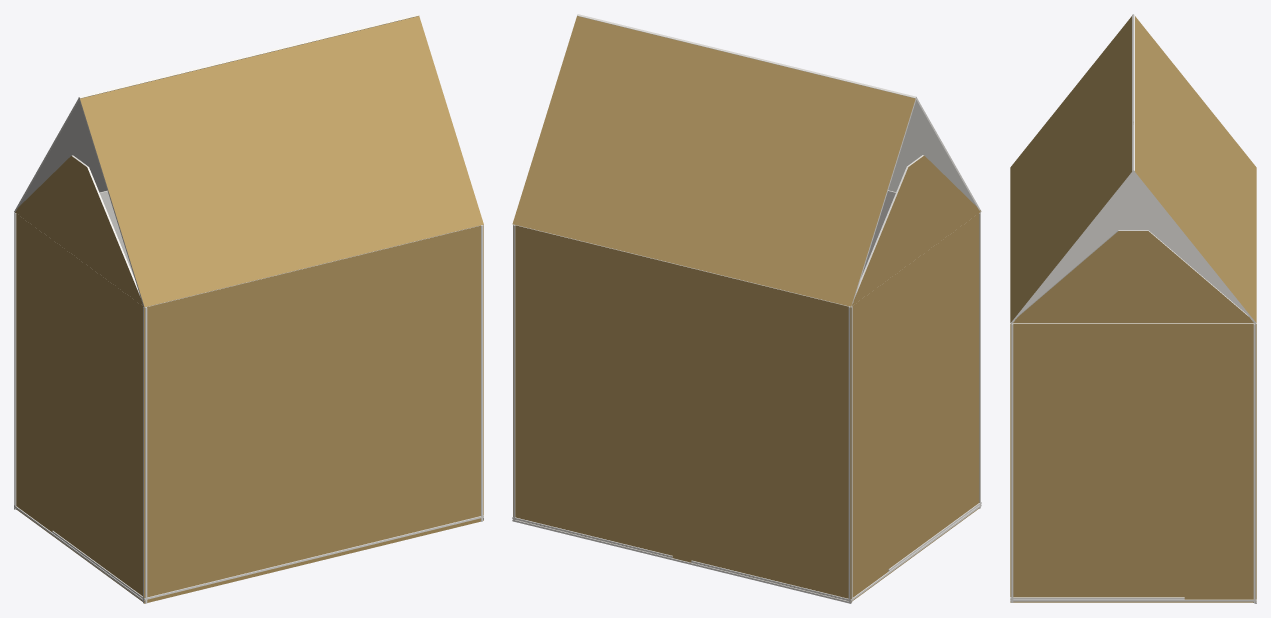
3 views of the same model, side by side, from view 1: azimuth 30°, elevation 25°; view 2: azimuth 150°, elevation 25°; view 3: azimuth 270°, elevation 25° (orthographic). The views are drawn at different scales.
Parts seen in each view (by area): view 1: Packive_Box_fefco0217; view 2: Packive_Box_fefco0217; view 3: Packive_Box_fefco0217.
Part boxes in pixels (<box>): Packive_Box_fefco0217: <box>14,14,483,603</box>; Packive_Box_fefco0217: <box>512,14,981,603</box>; Packive_Box_fefco0217: <box>1010,14,1256,603</box>.
Bounding box in the file's own units: 0.3 × 0.389 × 0.2.
Materials: 26 (13 with a texture image).
